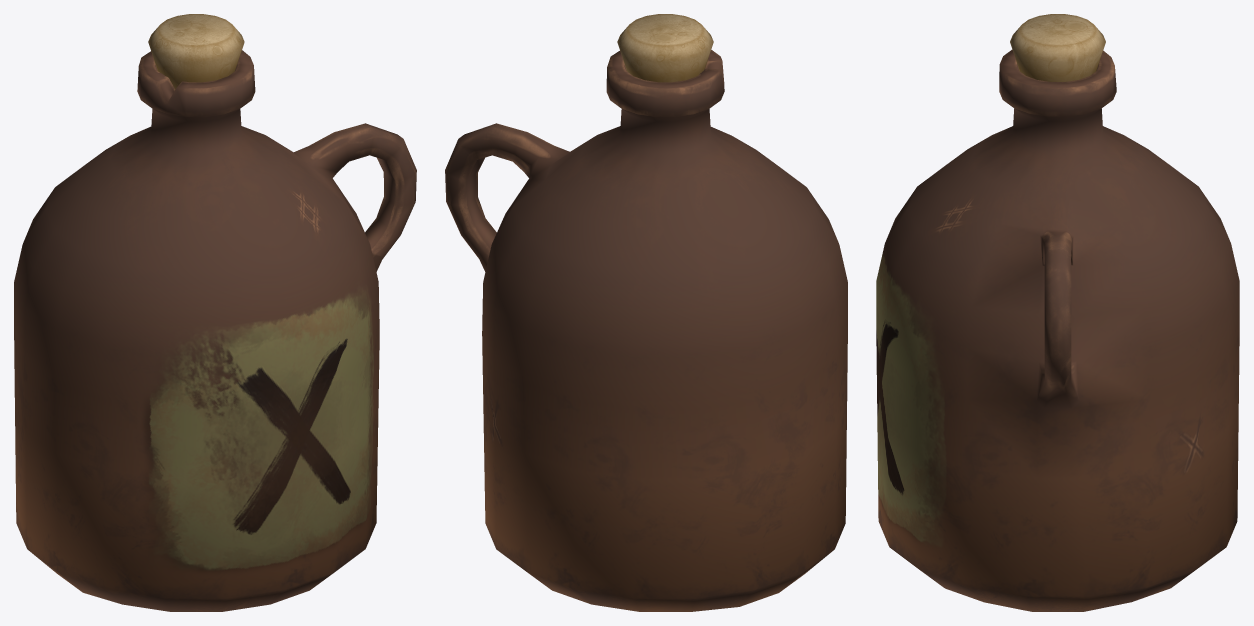
File: Grog_bottle.glb
3 views of the same model, side by side, from view 1: azimuth 30°, elevation 25°; view 2: azimuth 150°, elevation 25°; view 3: azimuth 270°, elevation 25° (orthographic).
Parts seen in each view (by area): view 1: Rum_low, Cep_low; view 2: Rum_low, Cep_low; view 3: Rum_low, Cep_low.
Part boxes in pixels (x1,y1,x2,y2): Rum_low: (14,50,416,611); Cep_low: (148,14,244,89); Rum_low: (445,50,847,611); Cep_low: (617,14,713,82); Rum_low: (876,49,1239,611); Cep_low: (1010,14,1105,81).
Size of the model in its own units: 2.36 by 3.16 by 2.
Materials: 2 (2 with a texture image).
